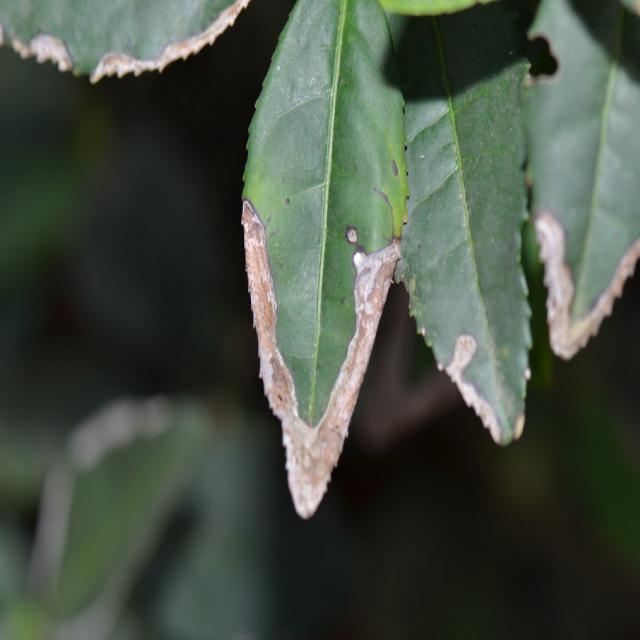Tea cloud leaf blight: (216, 178, 391, 499), (18, 19, 265, 82), (540, 208, 630, 375), (443, 316, 535, 457)
